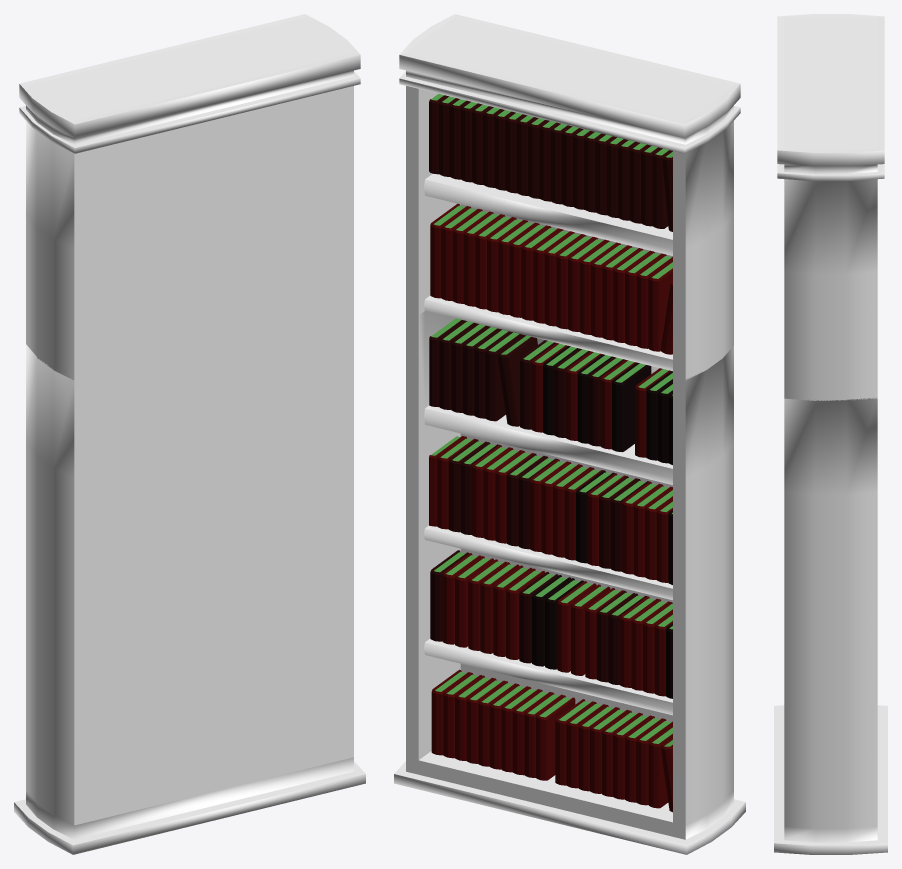
The model's file is Tall3.fbx.
3 views of the same model, side by side, from view 1: azimuth 30°, elevation 25°; view 2: azimuth 150°, elevation 25°; view 3: azimuth 270°, elevation 25° (orthographic). The views are drawn at different scales.
Visible parts, largest first — view 1: Book Shelf.004; view 2: Book Shelf.004; view 3: Book Shelf.004.
Boxes of the visible parts, left/top/right/bottom form: Book Shelf.004: left=14, top=14, right=365, bottom=854; Book Shelf.004: left=394, top=14, right=745, bottom=854; Book Shelf.004: left=774, top=14, right=887, bottom=854.
Size of the model in its own units: 1127 by 2586 by 381.
